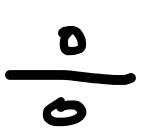div: (5, 26, 136, 126)
